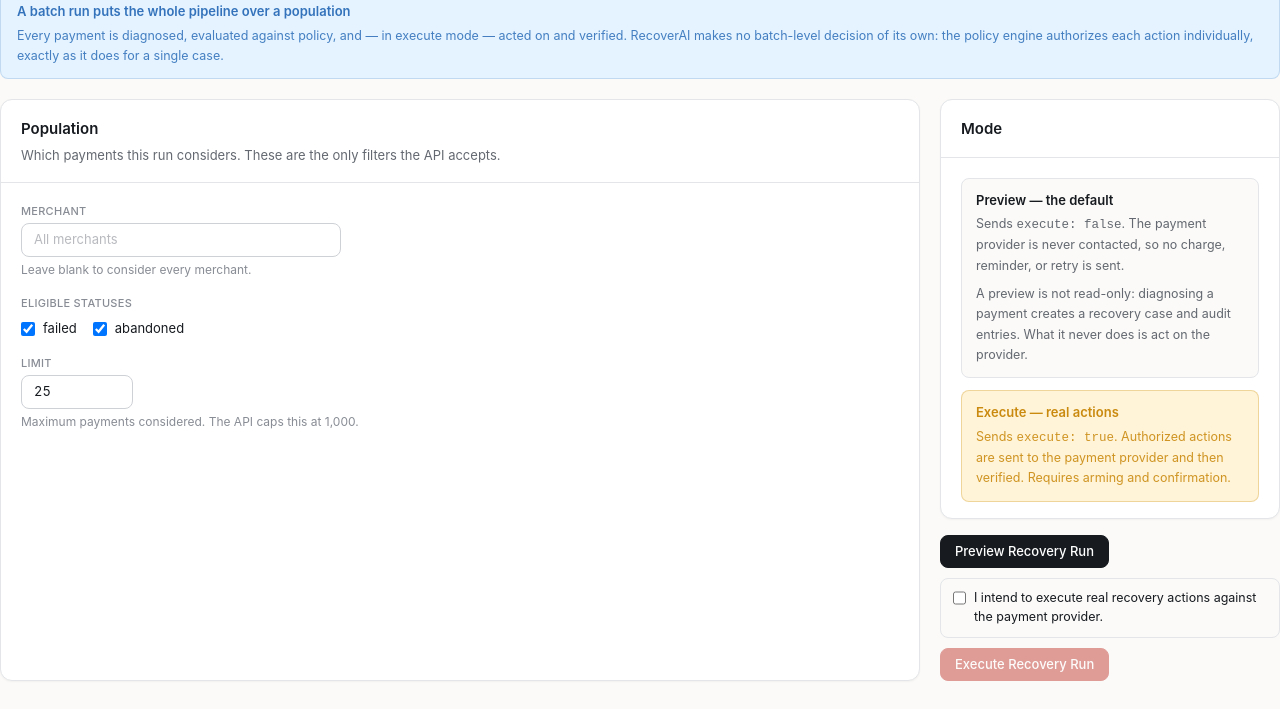
Test: Batch Recovery — duplicate submission and retry › a 401 renders as an authentication error
Click the button "Preview Recovery Run" at {"x": 1024, "y": 552}, box [940,535,1109,568]
(page scrolled)
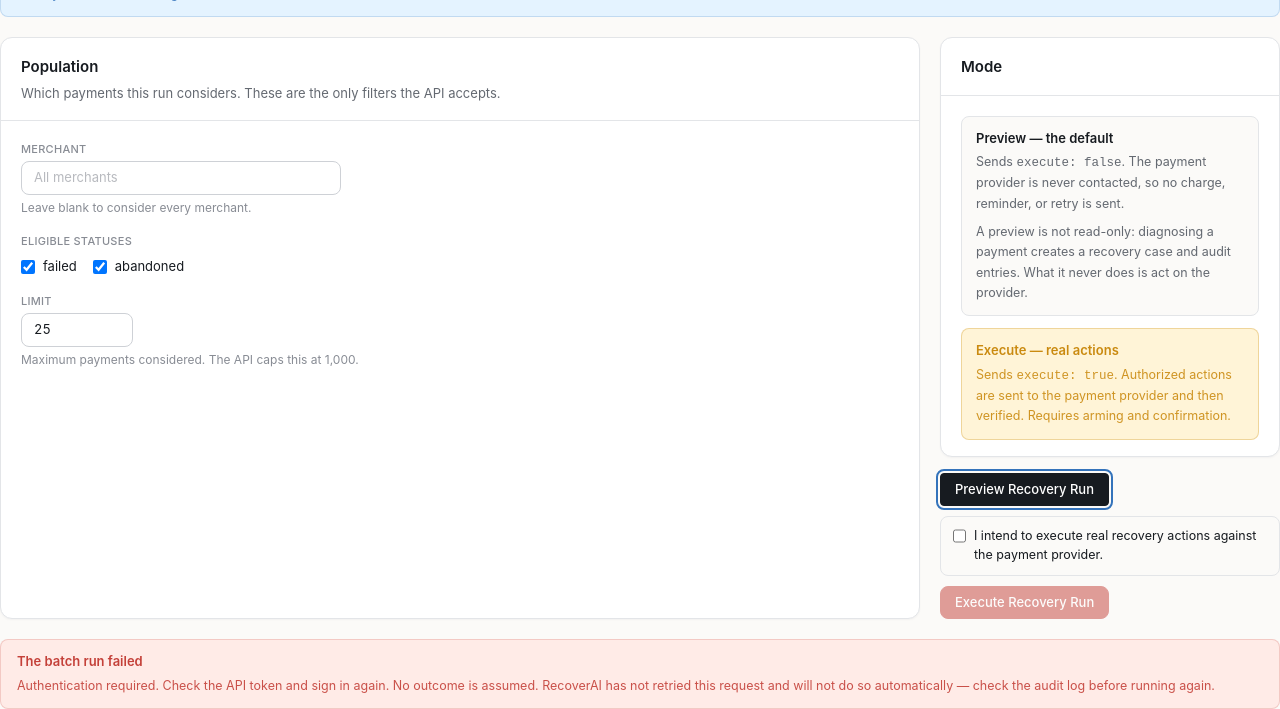
Expected: the message shows "Authentication required", [17,678,389,693]
